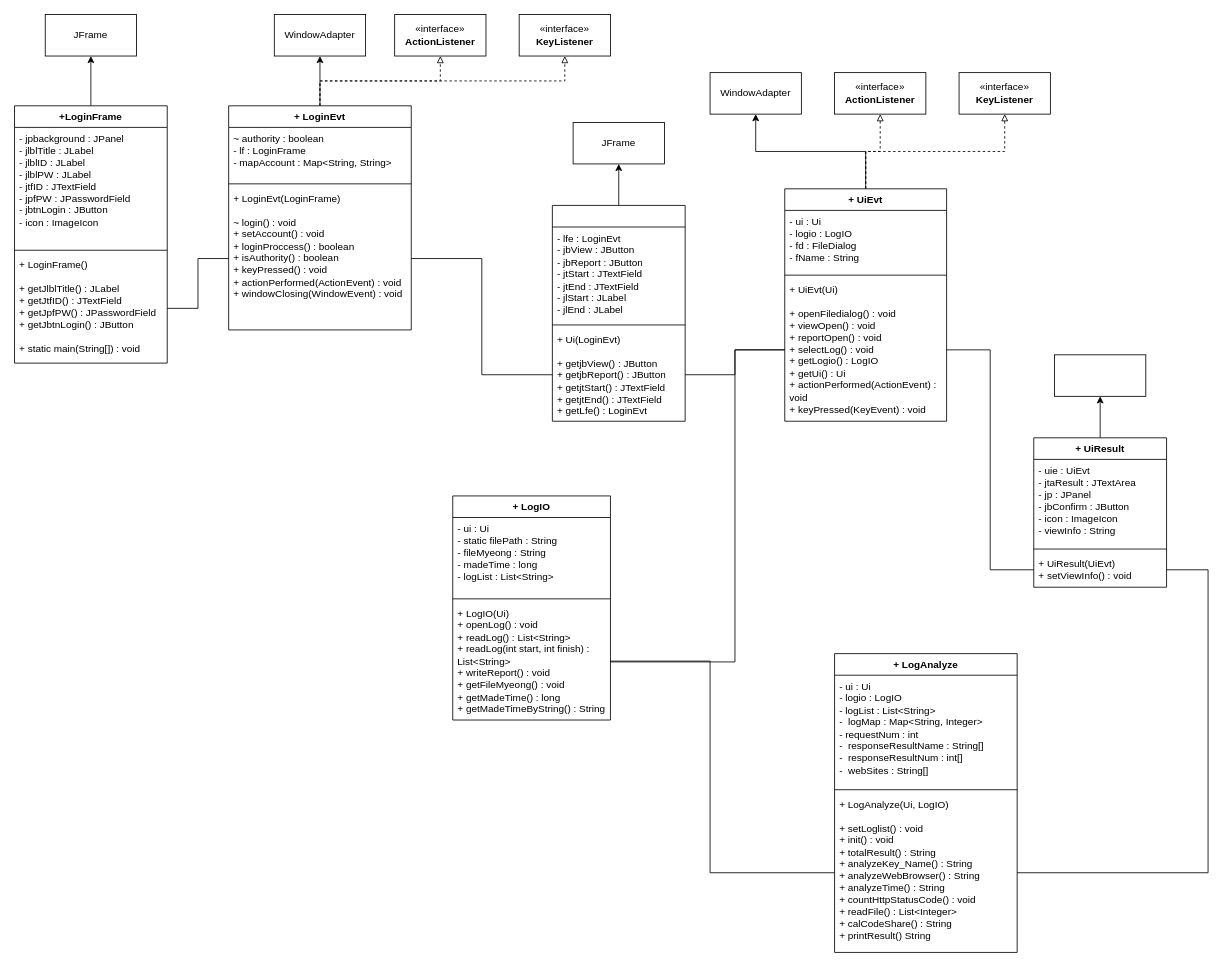
The diagram is 1223 pixels wide and 969 high, and some of its shapes have lost their labels. Here are the shapes that lost their labels. From the top down, the box of each, then its label:
(552, 205, 685, 421): + Ui
(1054, 354, 1146, 396): JDialog
